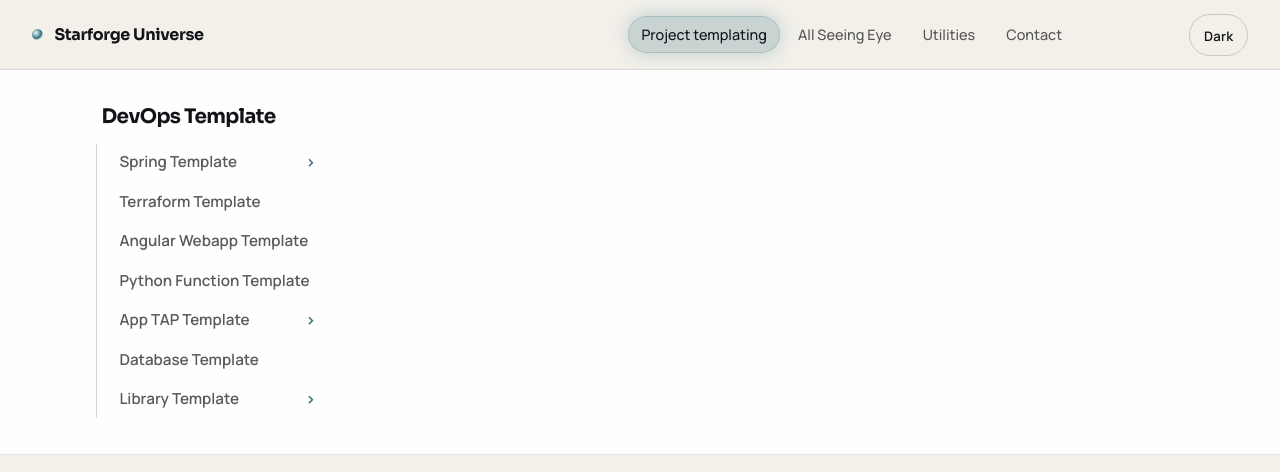
Test case: SiteNavComponent › should show Python Library Template when Library Template is hovered
Hover over the list item with class "has-nested" showing "Library Template ›" at {"x": 218, "y": 399}, box top-left (111, 381), bottom-right (325, 418)
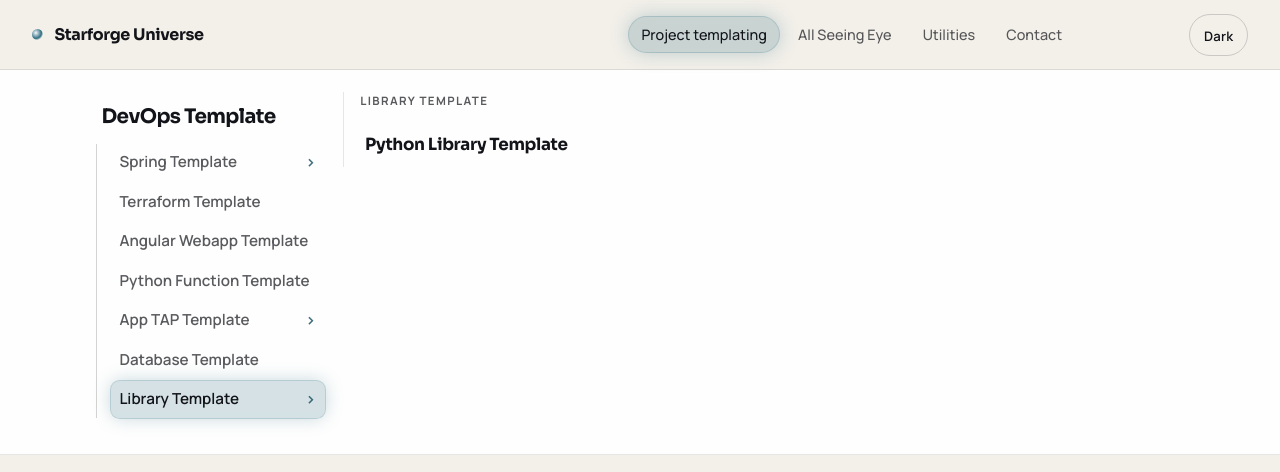
expect the text "Python Library Template" is shown: met, box top-left (365, 132), bottom-right (568, 159)
